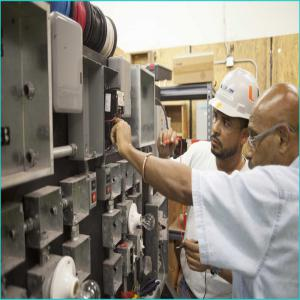none: (247, 83, 300, 174)
white: (206, 66, 261, 162)
